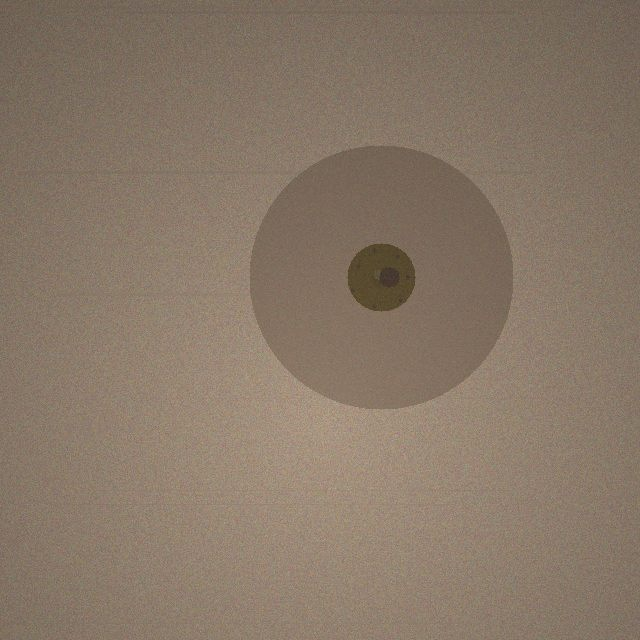cold_weld: (249, 145, 513, 409)
